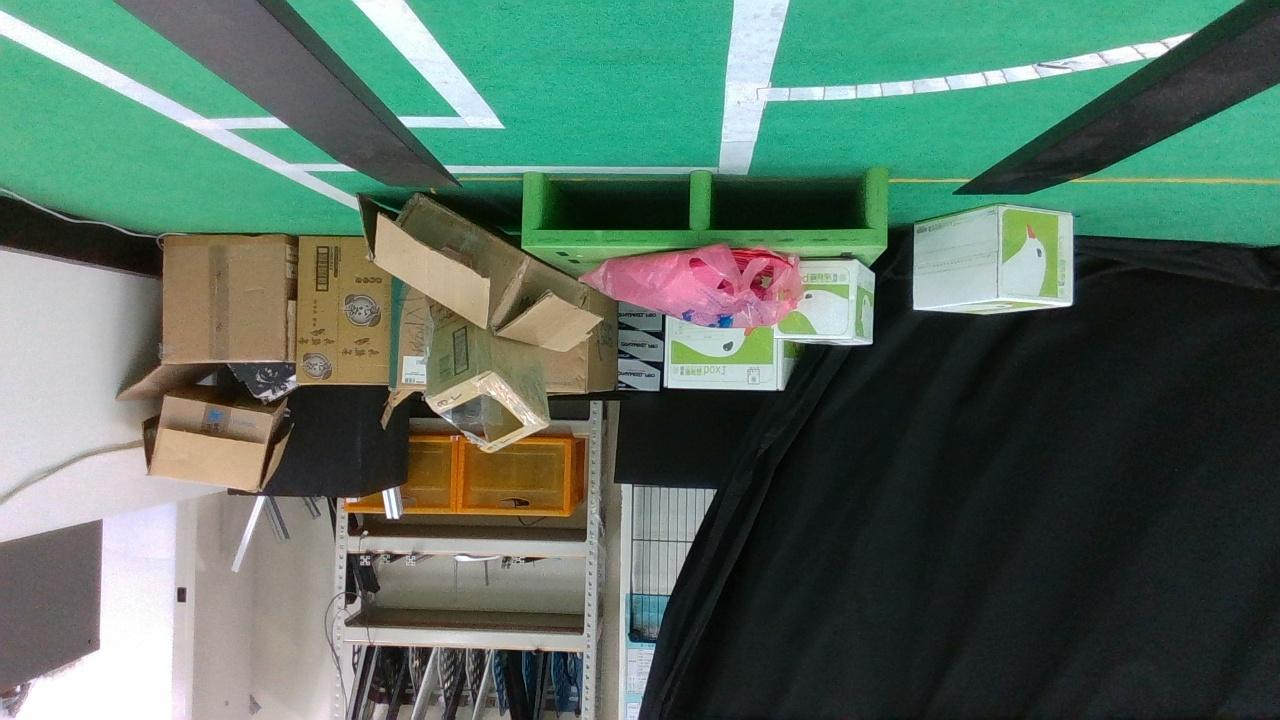Pallet: (522, 166, 891, 250)
